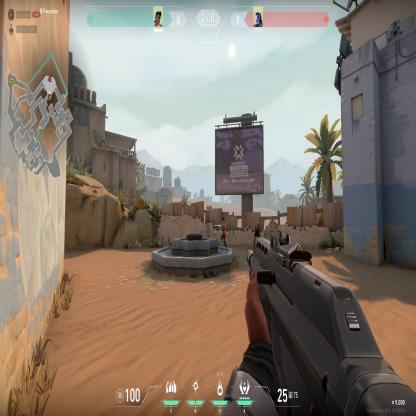enemy: (217, 220, 228, 248)
